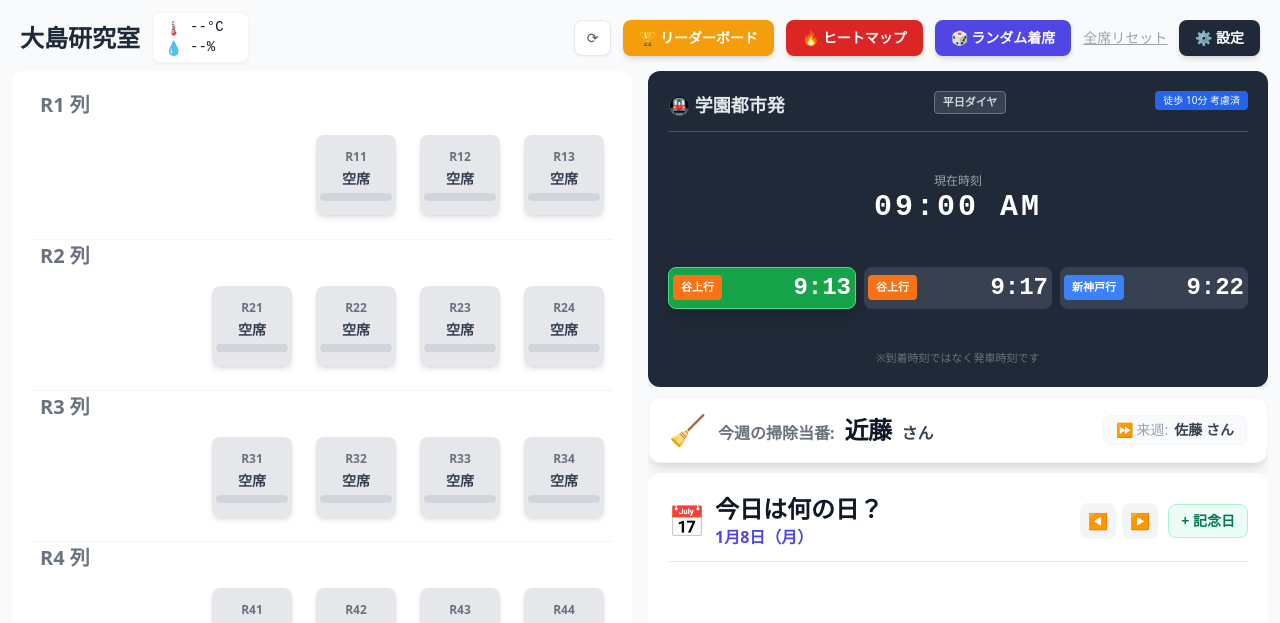
Test: admin history management › adds a manual session and updates leaderboard
Click the button "⚙ 設定" at (1220, 38), box [1179,20,1260,56]
(page scrolled)
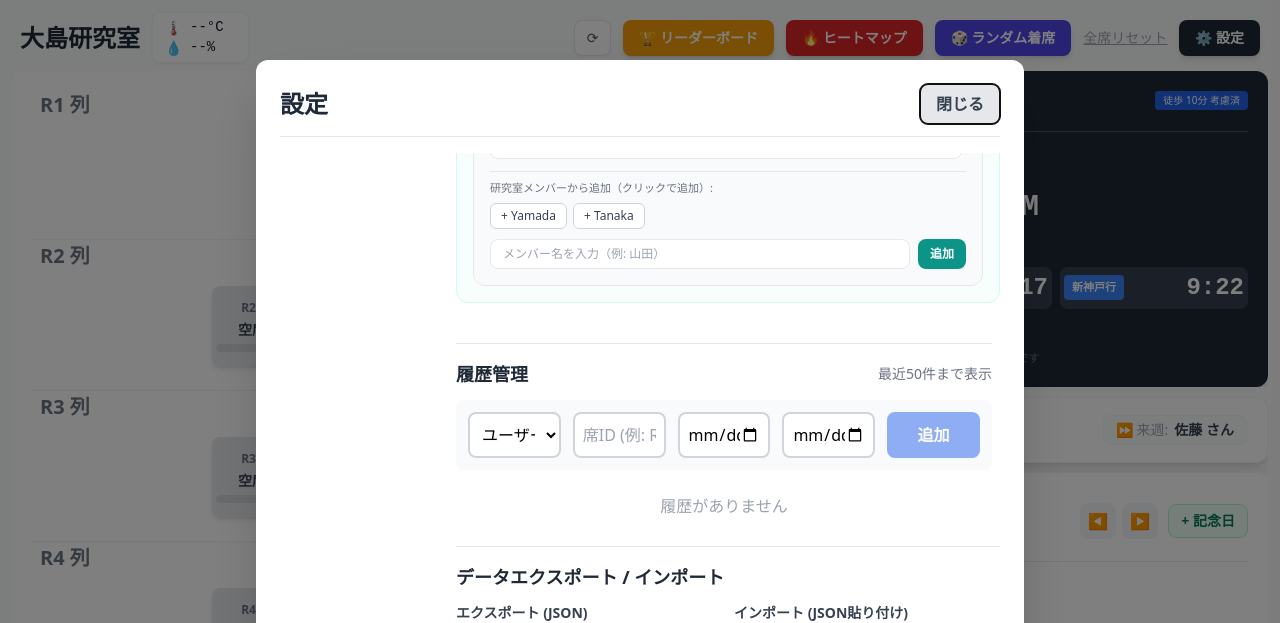
Select "Yamada" in the dropdown showing "ユーザーを選択" at (514, 434), box [468,412,561,458]
Type "R99" into the field with placeholder "席ID (例: R11)" at (619, 434), box [573,412,666,458]
Type "2024-01-08T09:00" into the field named "session-start" at (724, 434), box [678,412,770,458]
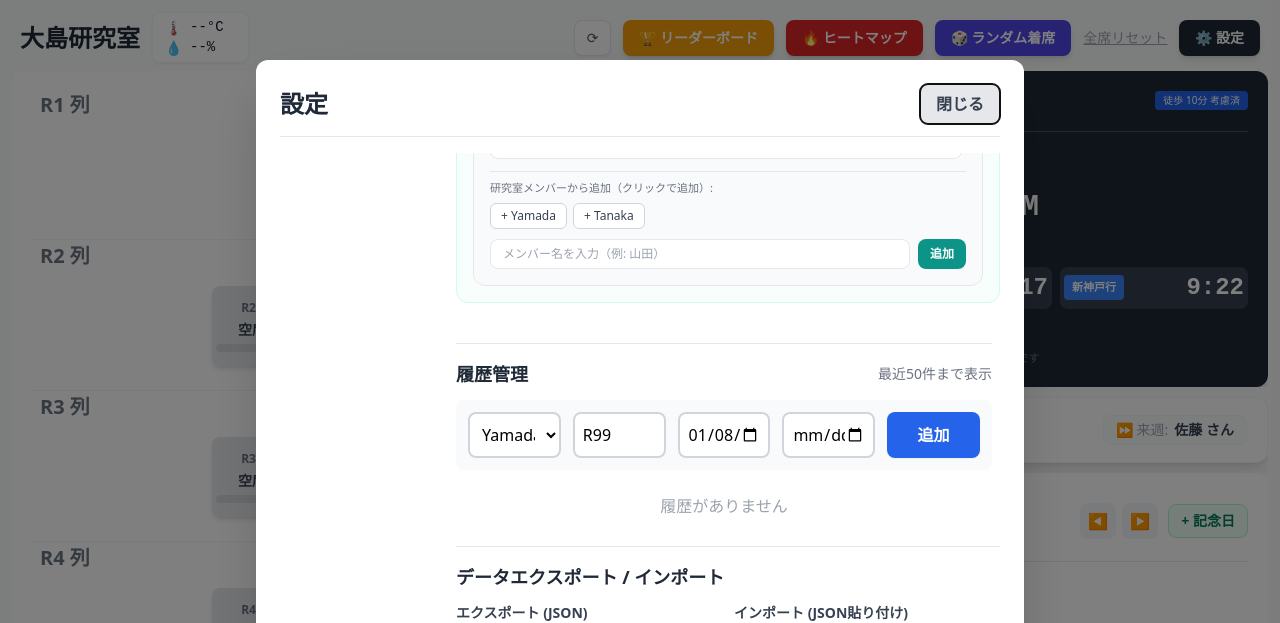
Type "2024-01-08T11:00" into the field named "session-end" at (829, 434), box [782,412,875,458]
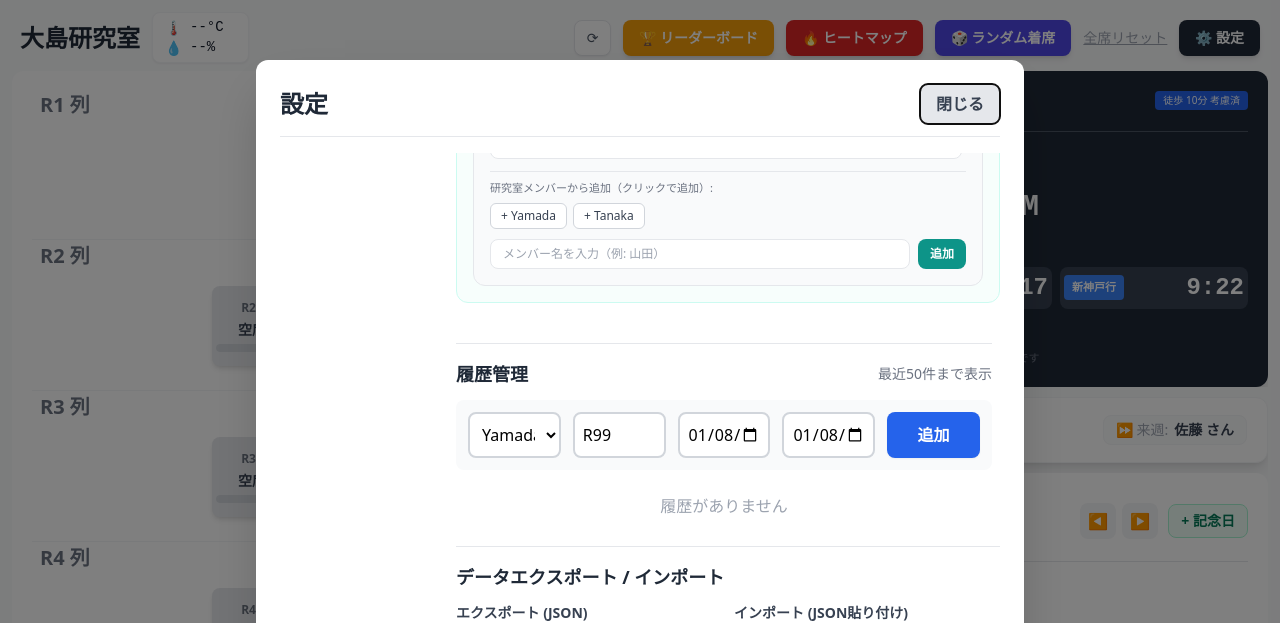
Click the button "追加" below "最近50件まで表示" at (934, 434), box [887,412,980,458]
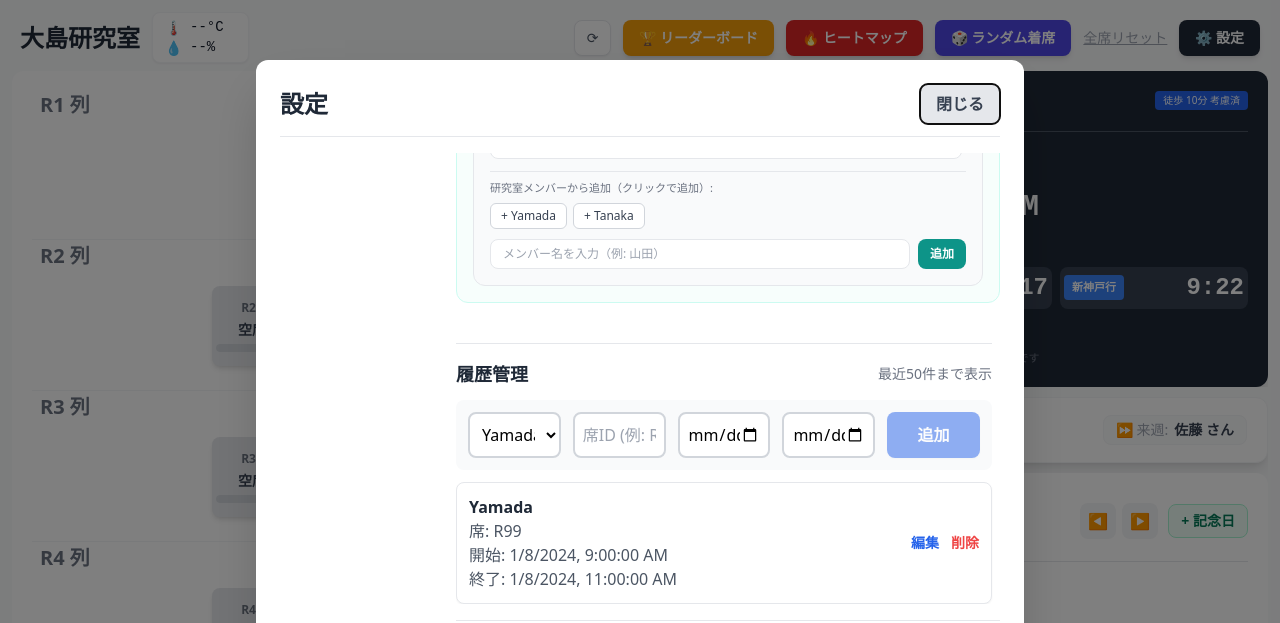
Click the button "閉じる" at (960, 104), box [920,84,1000,124]
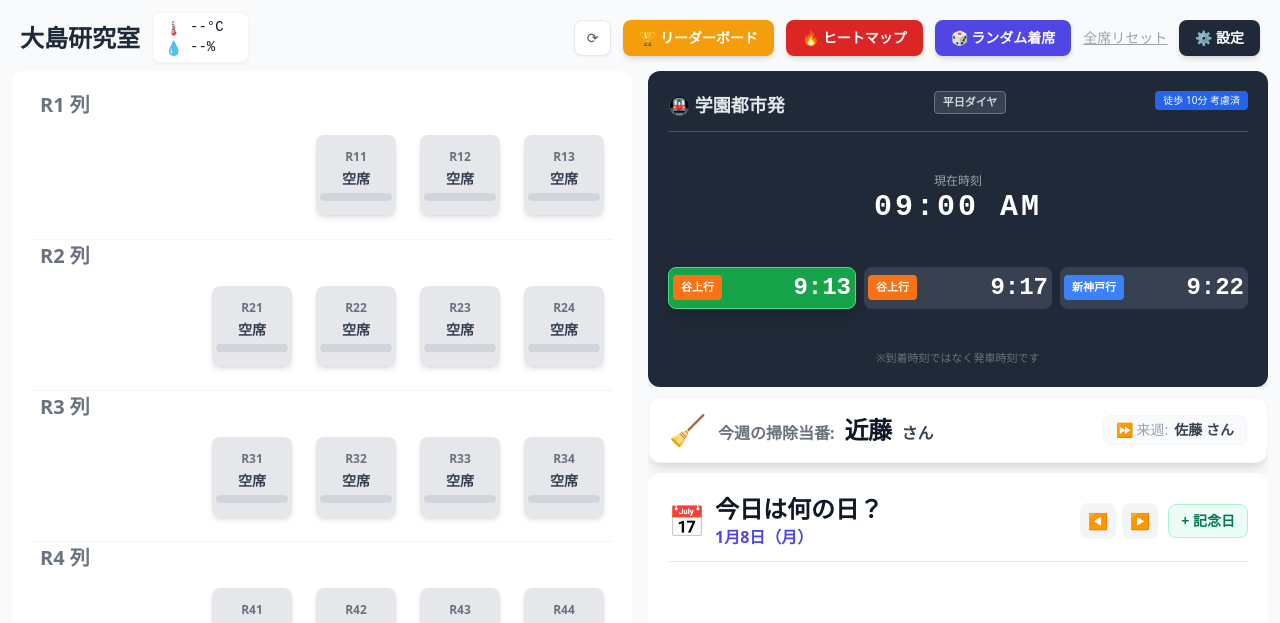
Click the button "🏆 リーダーボード" at (699, 38), box [623,20,774,56]
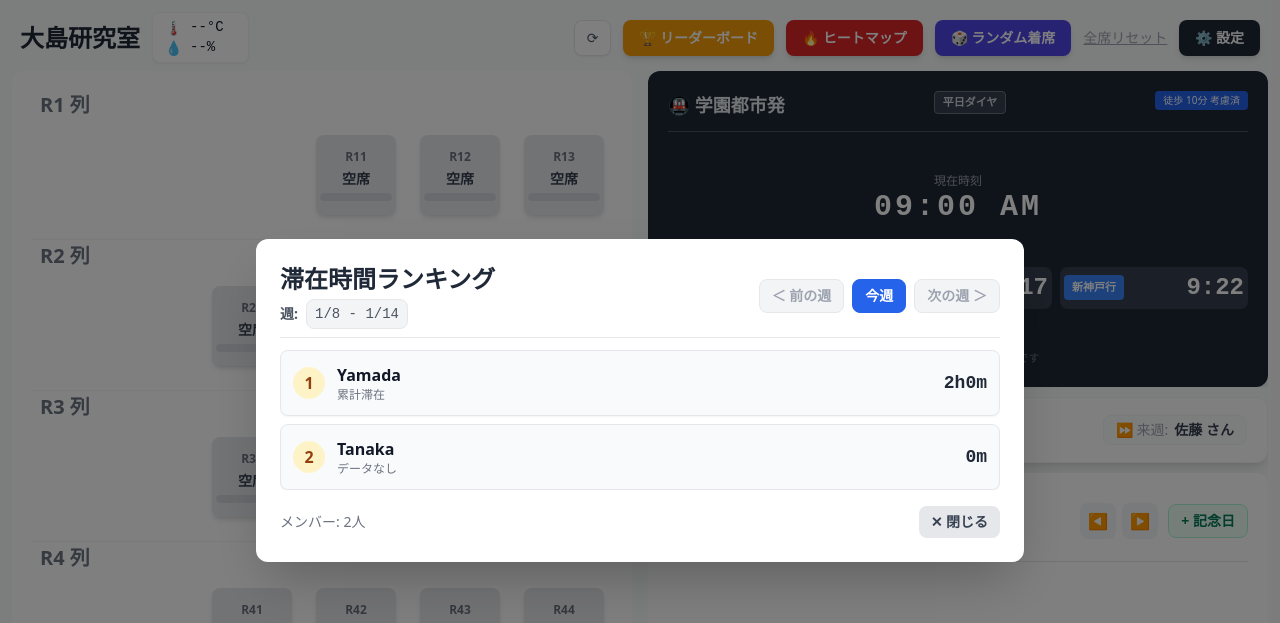
Now the list item "1 Yamada 累計滞在 2h0m" is shown, box [280,350,1000,416]
